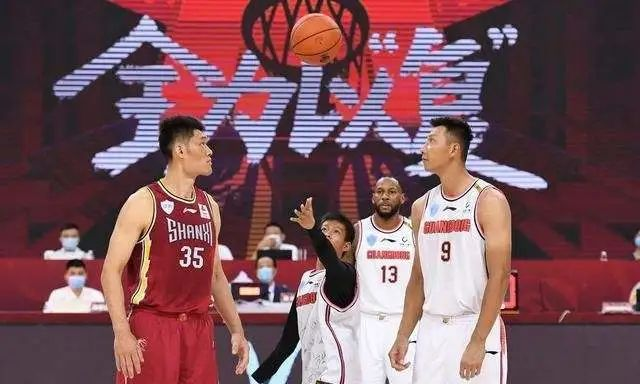ball: (291, 13, 342, 64)
